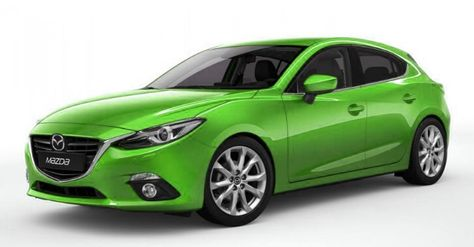Mazda3 Hatchback: (21, 32, 454, 234)
